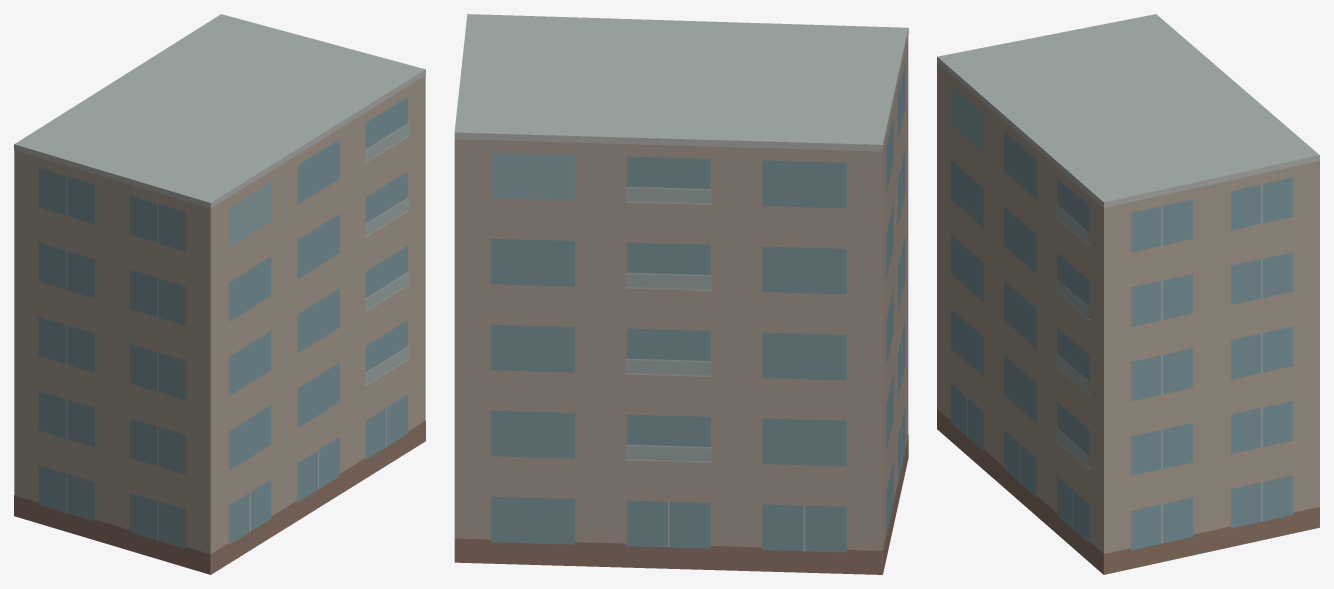
The model's file is survey-upis-32851181.glb.
The picture shows the model from 3 angles, left to right: view 1: azimuth 30°, elevation 25°; view 2: azimuth 150°, elevation 25°; view 3: azimuth 270°, elevation 25°; orthographic projection. The views are drawn at different scales.
Parts seen in each view (by area): view 1: survey-upis-32851181.tmp; view 2: survey-upis-32851181.tmp; view 3: survey-upis-32851181.tmp.
Part boxes in pixels (box(x1,y1,x2,y2)): survey-upis-32851181.tmp: box(14, 14, 425, 574); survey-upis-32851181.tmp: box(454, 14, 908, 574); survey-upis-32851181.tmp: box(937, 14, 1319, 574).
Size of the model in its own units: 17.25 by 15.9 by 14.82.
